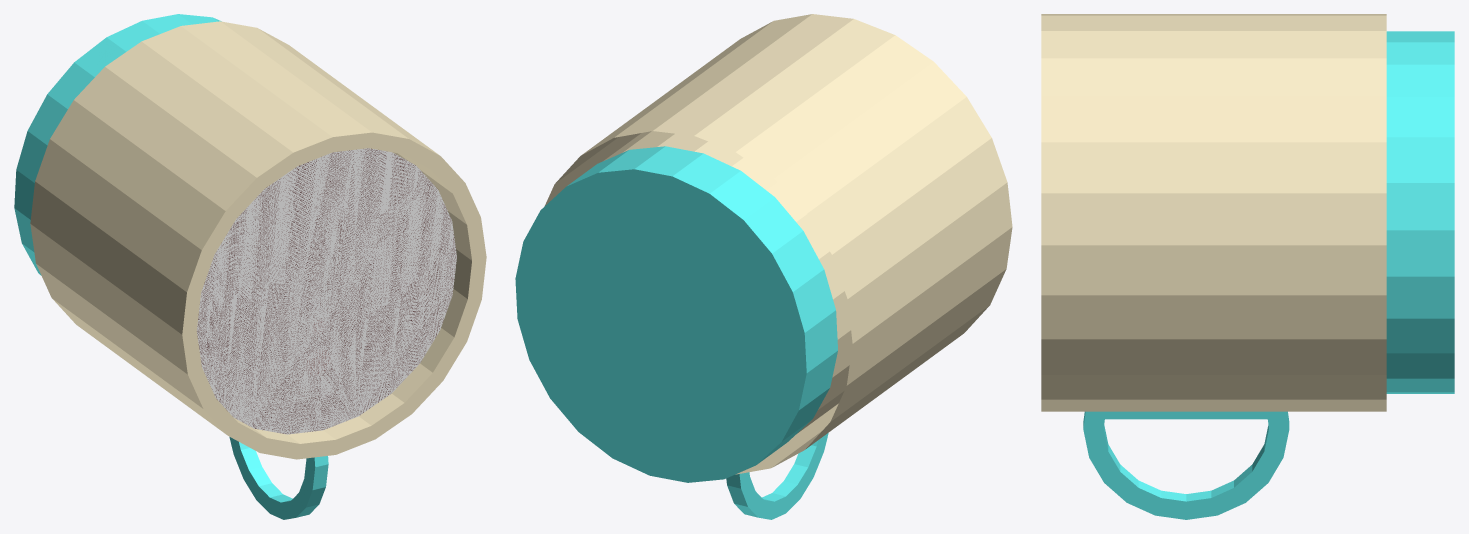
3 renders of one model, left to right at view 1: azimuth 30°, elevation 25°; view 2: azimuth 150°, elevation 25°; view 3: azimuth 270°, elevation 25°, orthographic. The views are drawn at different scales.
Parts seen in each view (by area): view 1: coffee mug; view 2: coffee mug; view 3: coffee mug.
Part boxes in pixels (left/top/right/bottom): coffee mug: left=14, top=14, right=486, bottom=519; coffee mug: left=515, top=14, right=1012, bottom=519; coffee mug: left=1041, top=14, right=1454, bottom=519.
Bounding box in the file's own units: 69.62 × 92.56 × 72.
